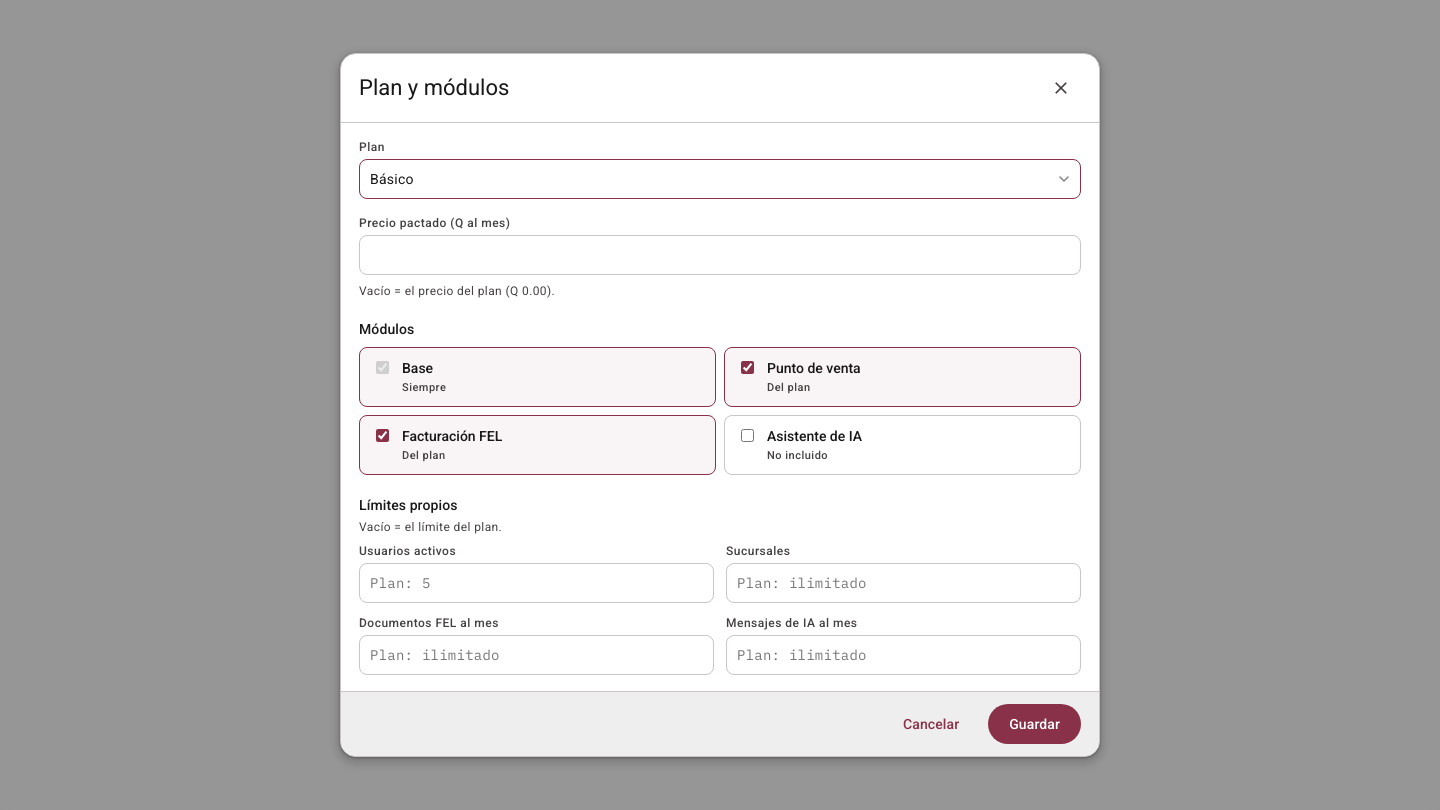
Test: SubscriptionDialog › el precio pactado se guarda; uno inválido no se envía
Later steps or results of the test are not shown.
Type "12.345" into the field labelled "Precio pactado (Q al mes)" at [720, 255], box [359,235,1081,275]
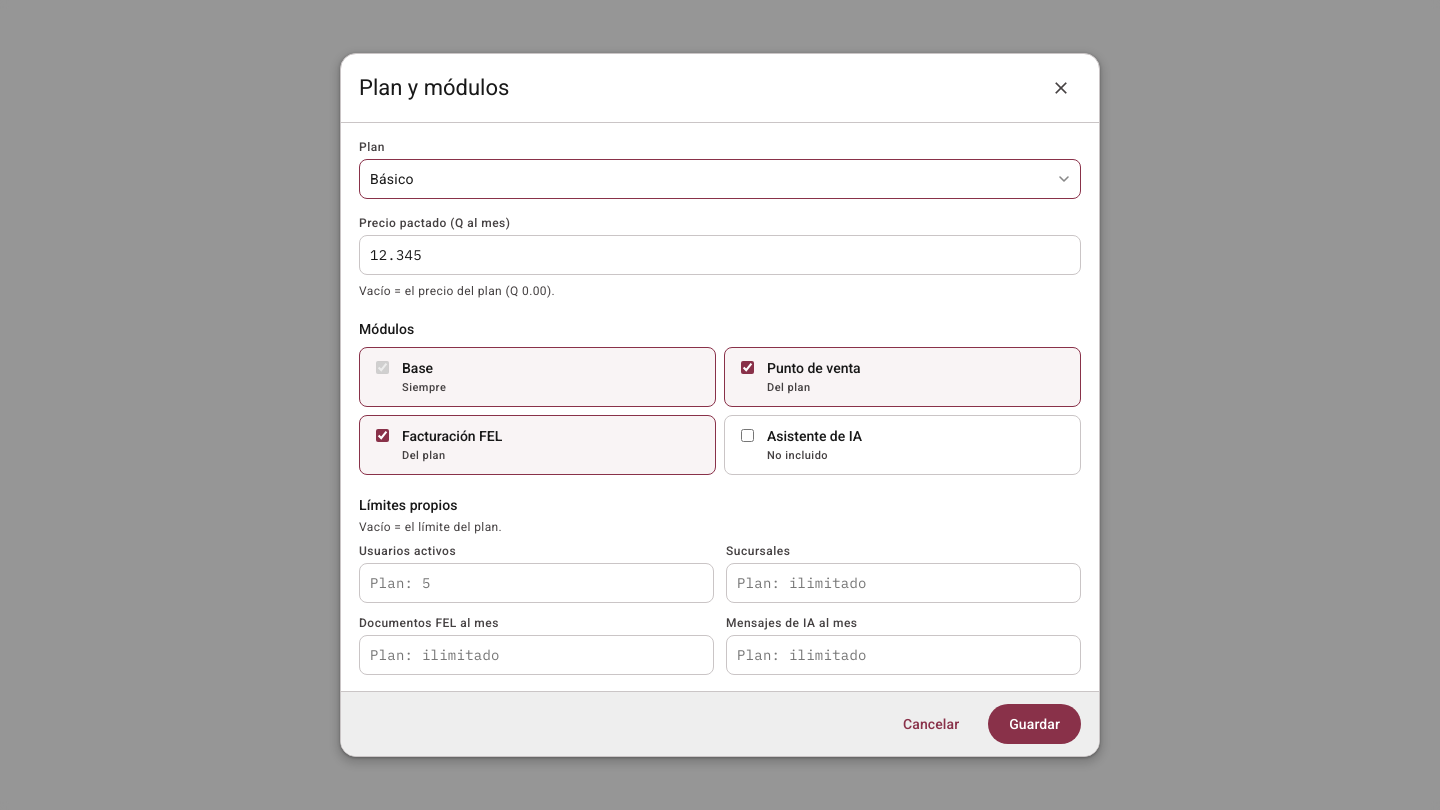
Click the button "Guardar" at [1035, 724], box [988,704,1081,744]
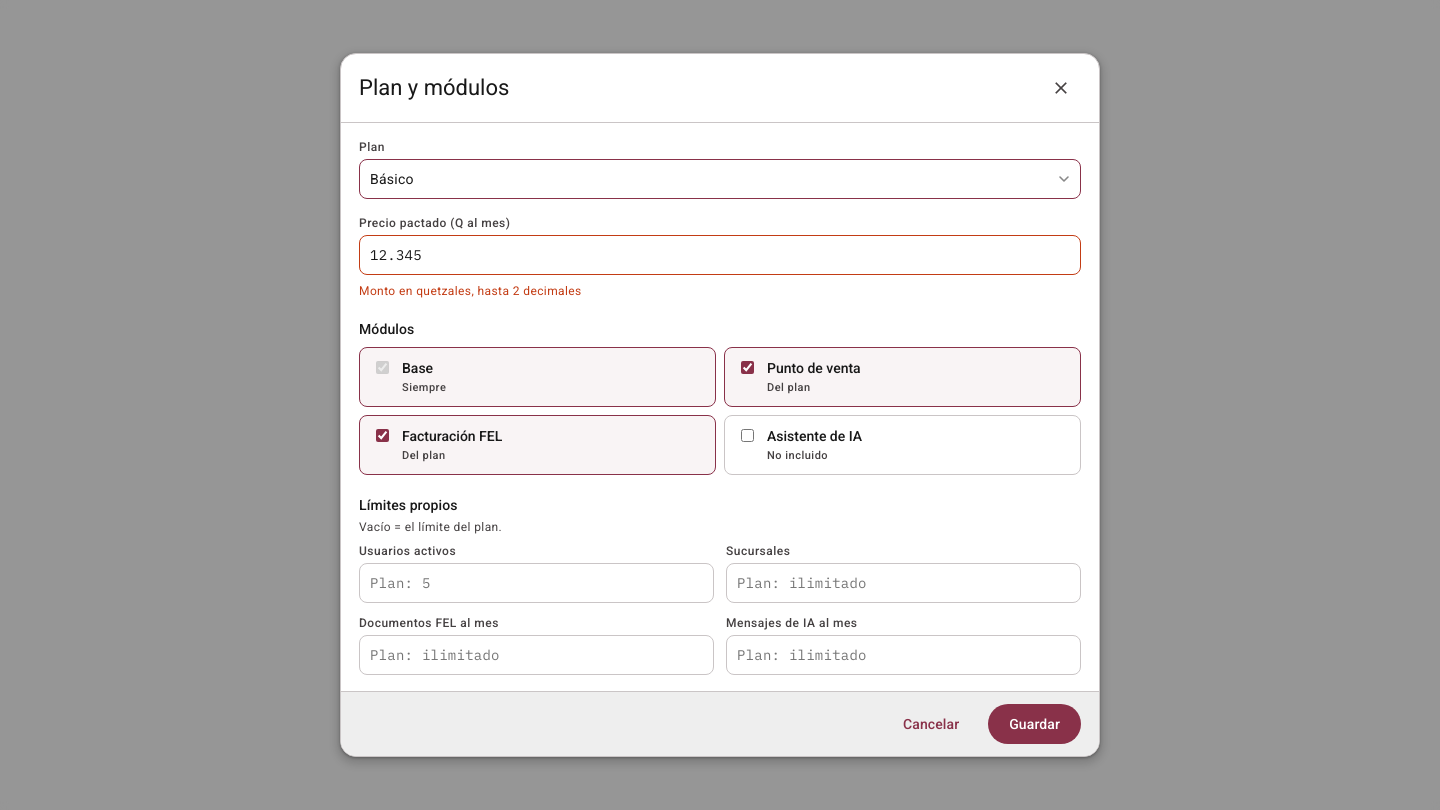
Result: the text "Monto en quetzales, hasta 2 decimales" is shown at [359,284,582,298]
